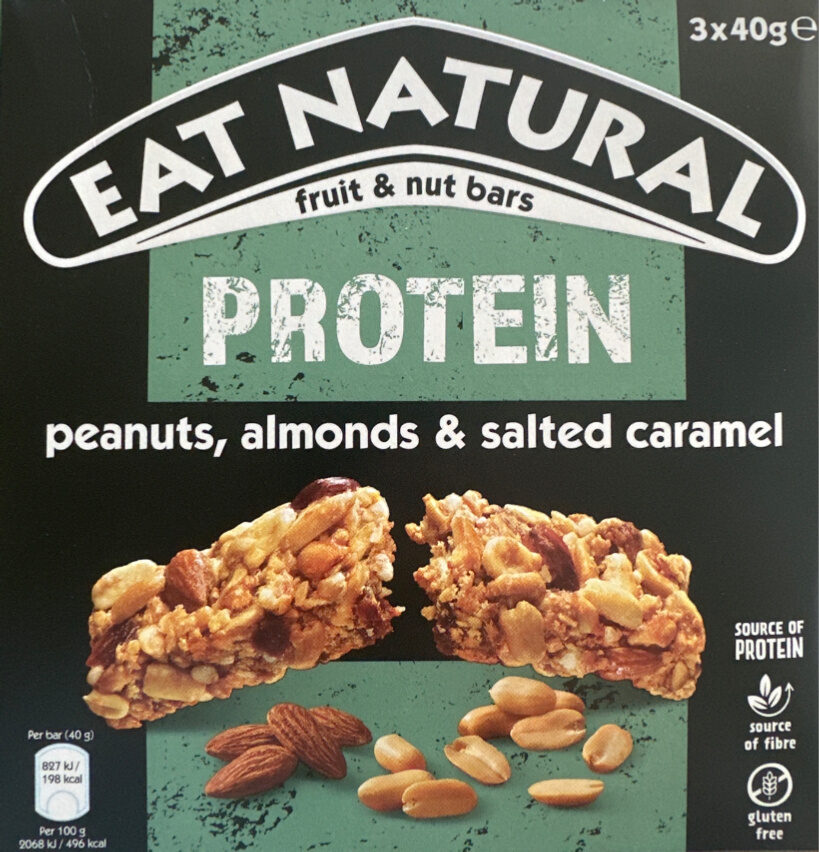Protein peanuts, almonds & salted caramel: (41, 43, 778, 809)
